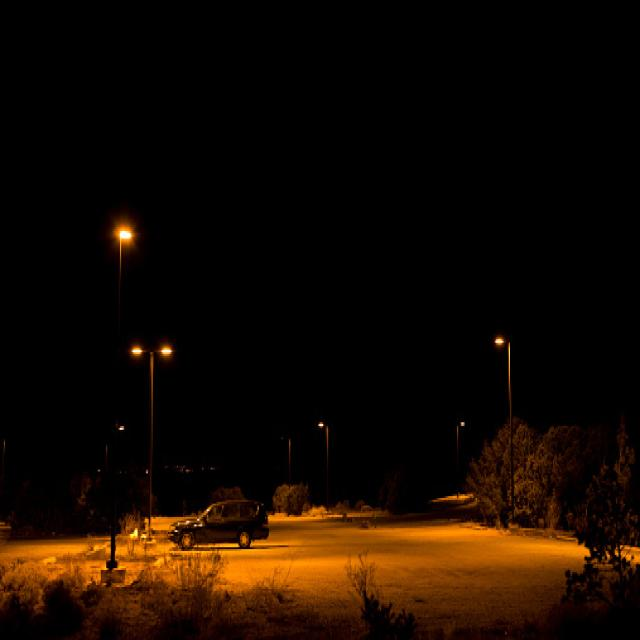Car: (167, 468, 286, 582)
